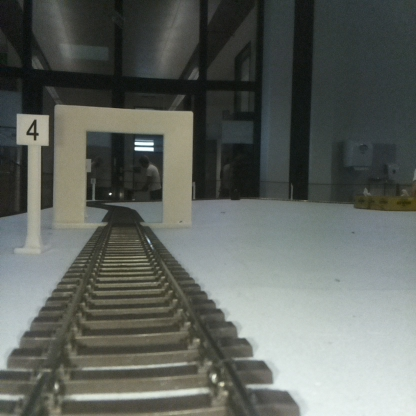white-info-4: (16, 115, 49, 250)
